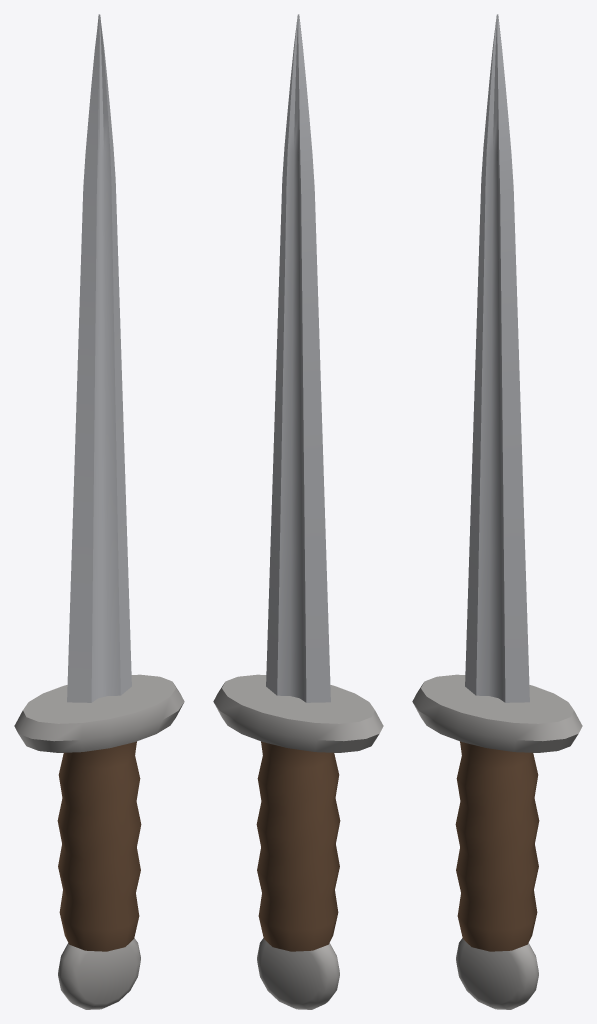
File: rondel_dagger.glb
The picture shows the model from 3 angles, left to right: view 1: azimuth 30°, elevation 25°; view 2: azimuth 150°, elevation 25°; view 3: azimuth 330°, elevation 25°; orthographic projection.
Visible parts, largest first — view 1: rondel_dagger; view 2: rondel_dagger; view 3: rondel_dagger.
Boxes of the visible parts, x1,y1,x2,y2 form: rondel_dagger: (14, 14, 184, 1009); rondel_dagger: (213, 14, 383, 1009); rondel_dagger: (412, 14, 582, 1009).
Bounding box in the file's own units: 0.07 × 0.4092 × 0.0379.
